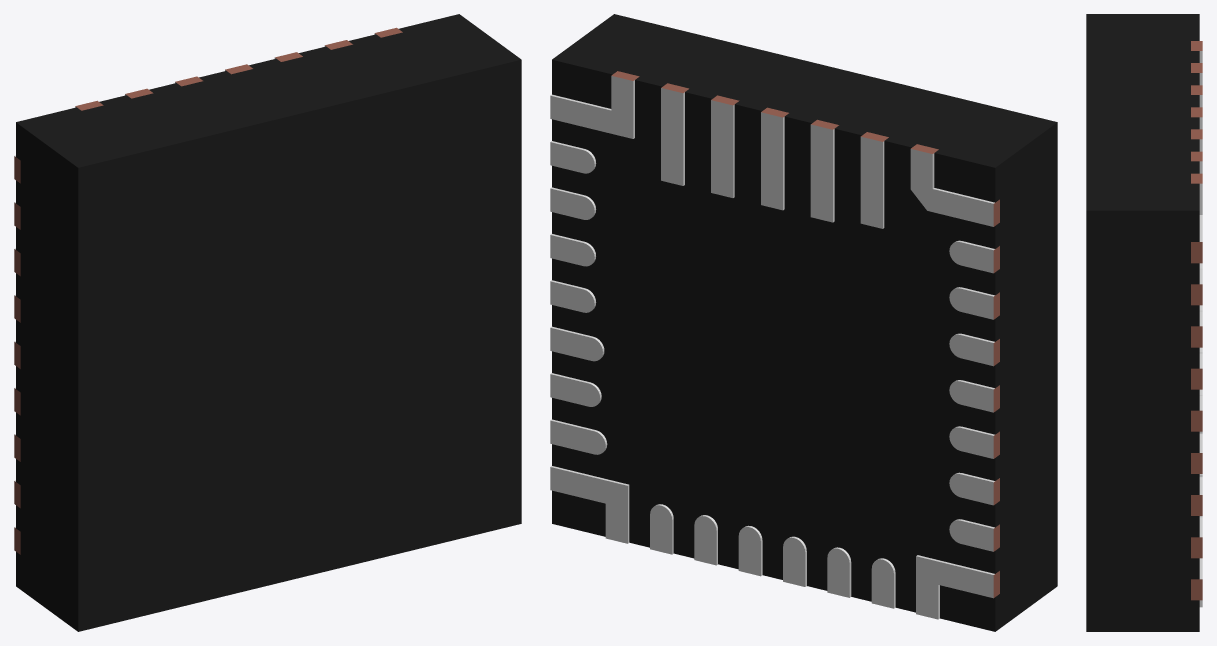
Rendered from BQ25798RQMR.glb.
3 renders of one model, left to right at view 1: azimuth 30°, elevation 25°; view 2: azimuth 150°, elevation 25°; view 3: azimuth 270°, elevation 25°, orthographic. The views are drawn at different scales.
Visible parts, largest first — view 1: MOLD; view 2: MOLD, SOLID (×29); view 3: MOLD, SOLID (×9).
Part boxes in pixels (x1,y1,x2,y2): MOLD: (16,14,521,631); MOLD: (552,14,1057,631); SOLID (×29): (550,71,999,619); MOLD: (1086,14,1199,631); SOLID (×9): (1191,173,1202,607).
Bounding box in the file's own units: 0.004 × 0.004 × 0.001.
